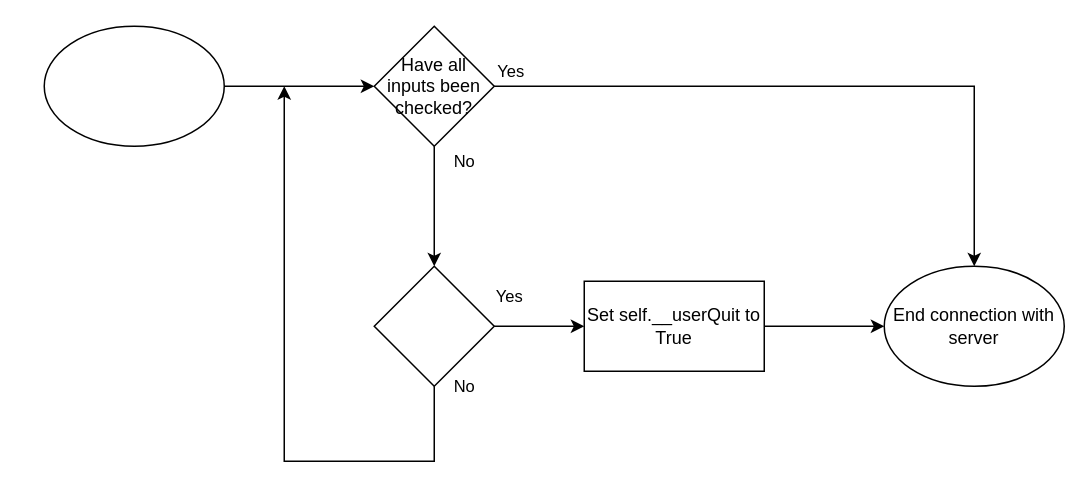
Image size: 1091x500. Some labels were removed from this diagram. Each missing label, with the box of its shape:
Game.__CheckIfUserQuit() called: (43, 25, 224, 146)
Is input QUIT?: (373, 265, 494, 386)
